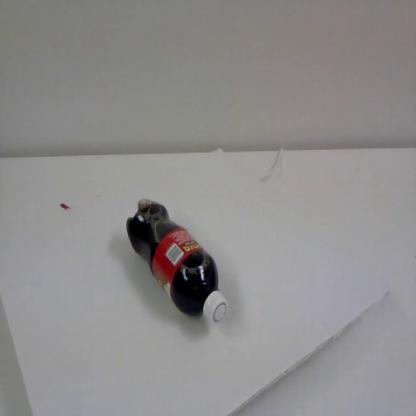bottle: (123, 195, 227, 328)
